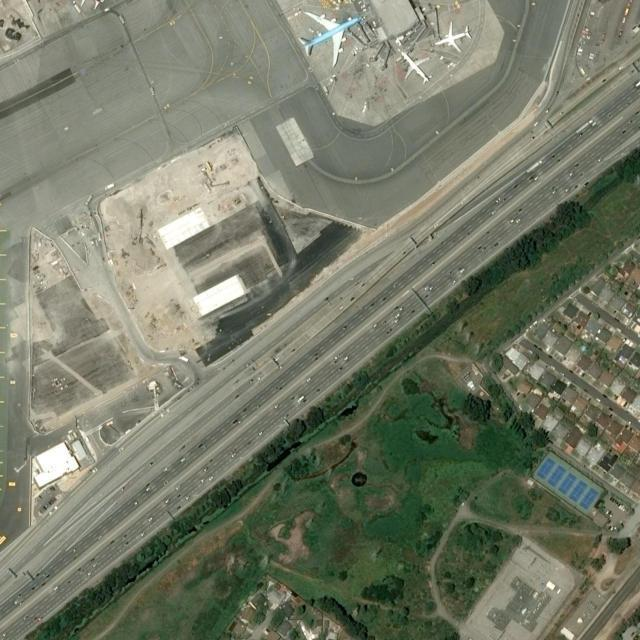Aircraft: (296, 11, 362, 63), (400, 50, 435, 84), (440, 24, 473, 51)
